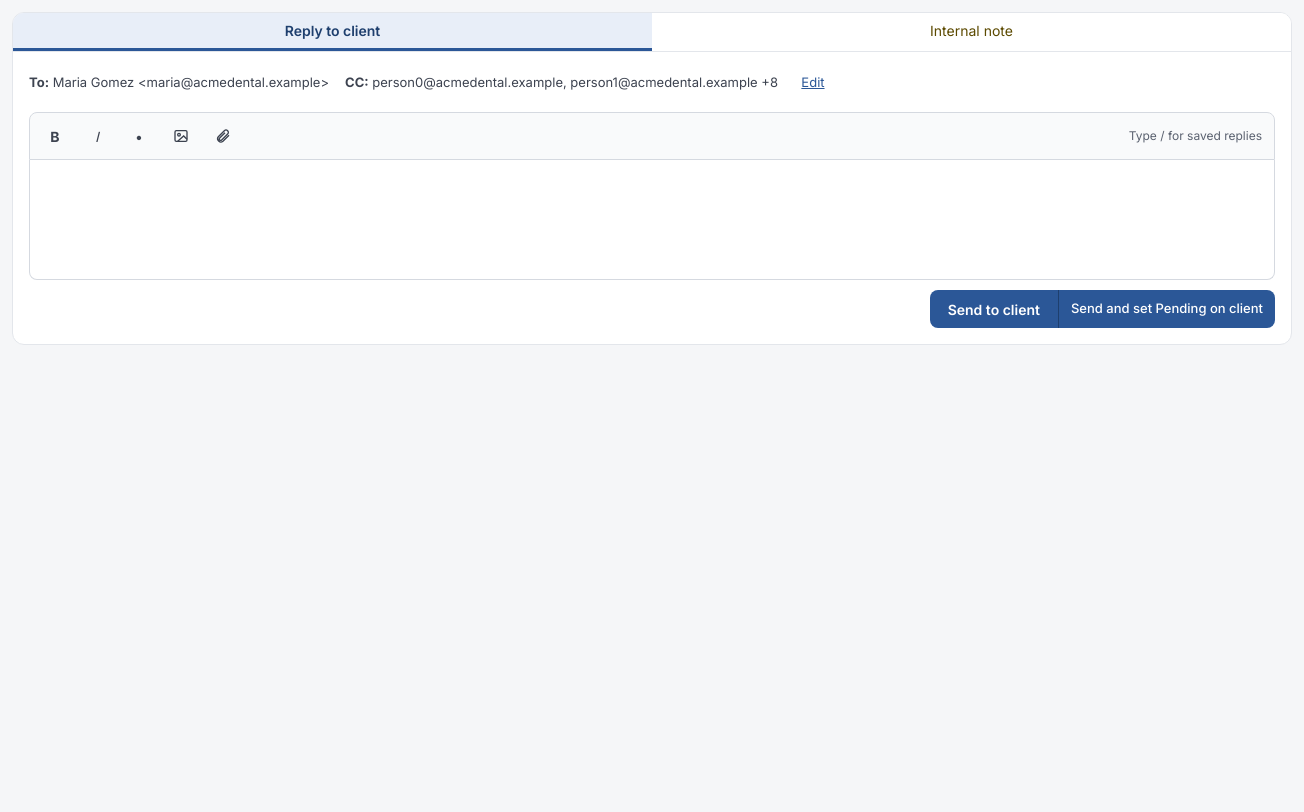
Reply CC line and editor (ADR-035) › stops at 10 people with a message
Click the button with aria-label "Edit CC".
click(813, 83)  # box [794, 64, 832, 102]
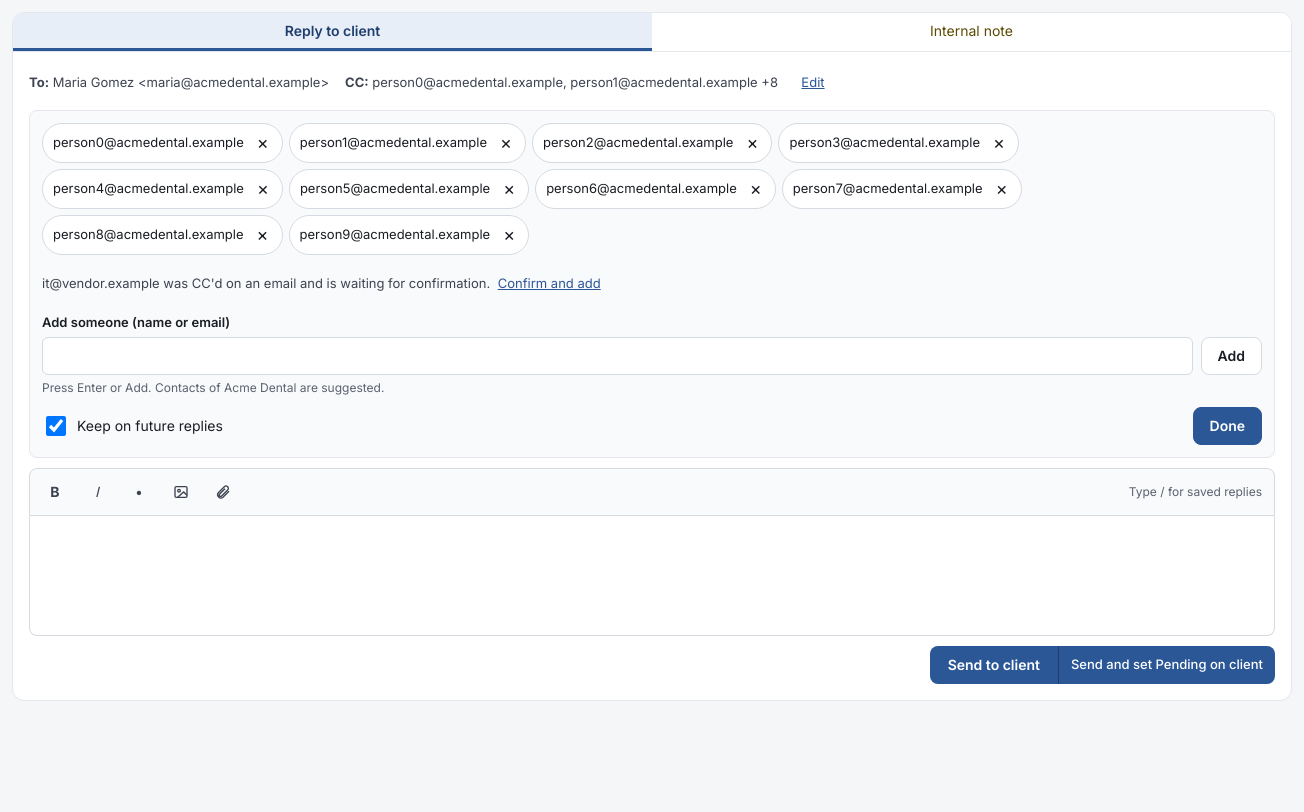
Type "one.more@acmedental.example" into the dropdown labelled "Add someone (name or email)".
click(617, 356); type("one.more@acmedental.example")  # box [42, 336, 1192, 374]
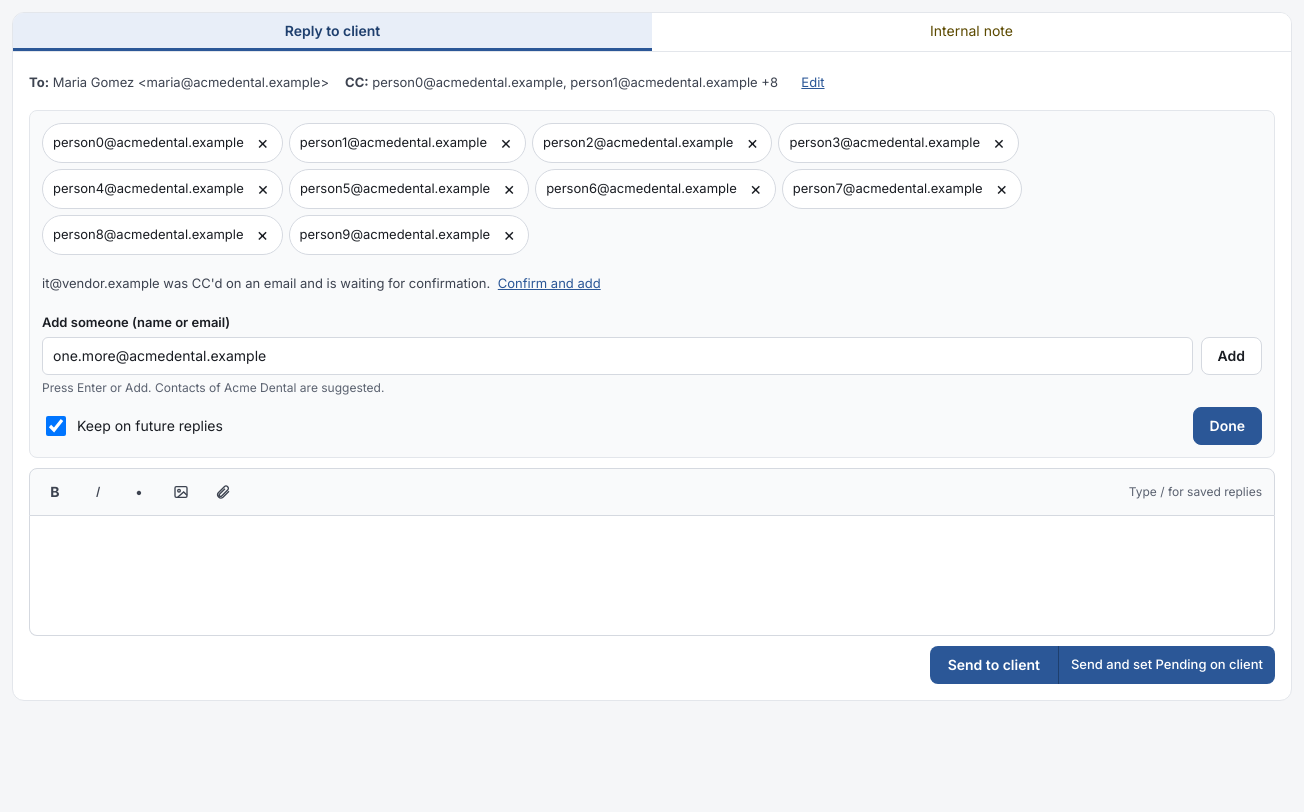
Press Enter in the dropdown labelled "Add someone (name or email)", box [42, 336, 1192, 374]
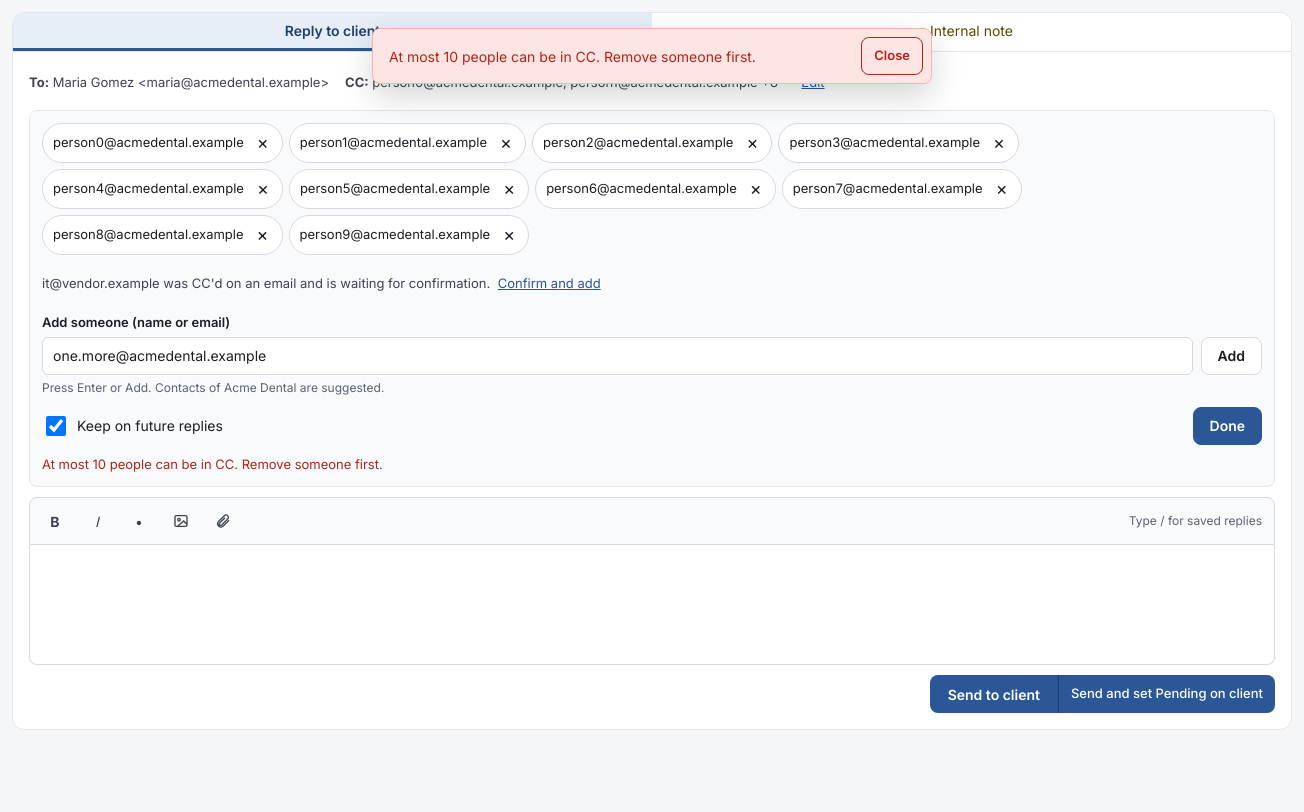
Expected: the number of buttons named "Remove " is 10
Expected: the message "At most 10 people can be in CC. Remove someone first." is shown, [42, 456, 383, 472]
